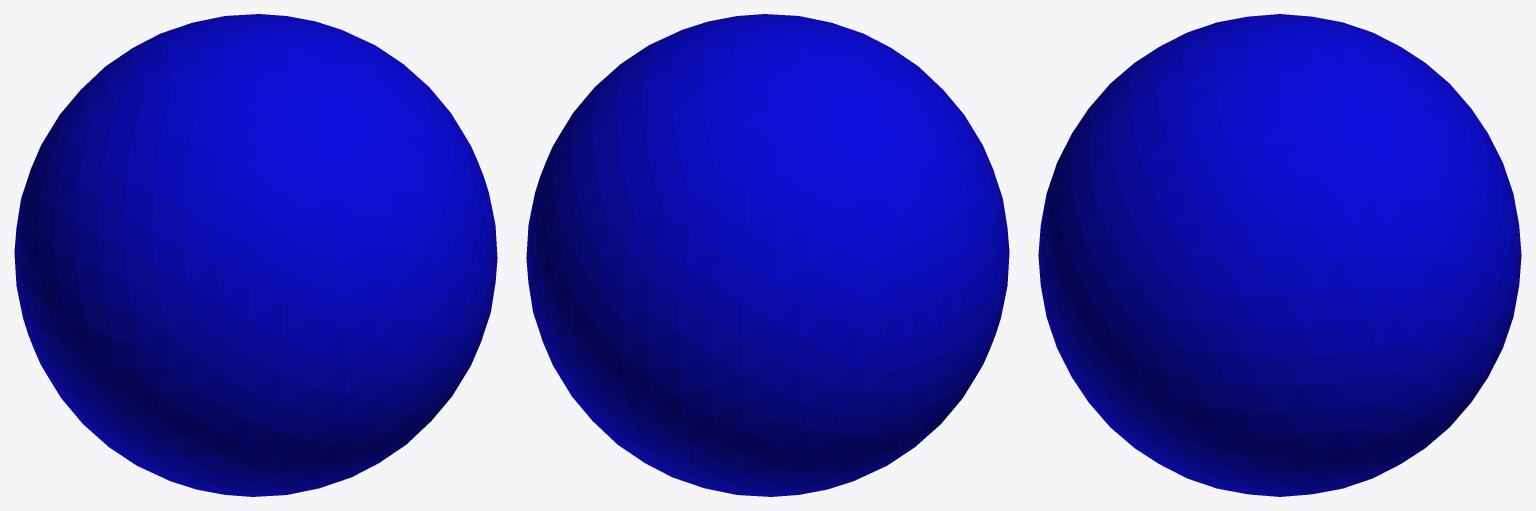
3 renders of one model, left to right at view 1: azimuth 30°, elevation 25°; view 2: azimuth 150°, elevation 25°; view 3: azimuth 270°, elevation 25°, orthographic.
Visible parts, largest first — view 1: world; view 2: world; view 3: world.
Boxes of the visible parts, left/top/right/bottom form: world: left=14, top=14, right=497, bottom=496; world: left=526, top=14, right=1009, bottom=496; world: left=1038, top=14, right=1521, bottom=496.
Size of the model in its own units: 2 by 2 by 2.
